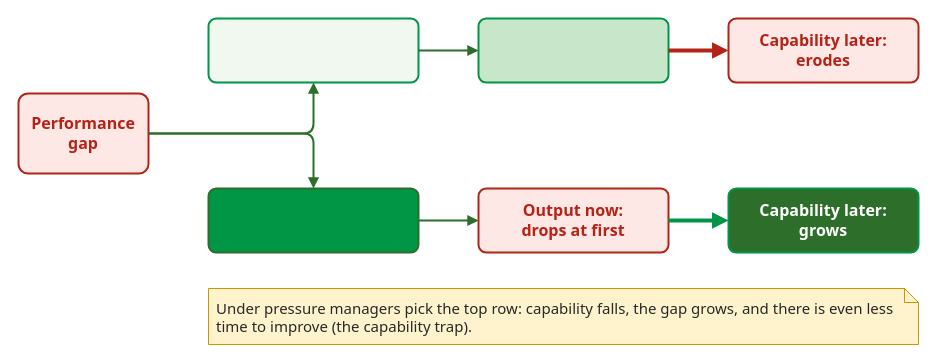
The diagram is 936 pixels wide and 362 high, and some of its shapes have lost their labels. The centre of each missing label's shape, as x and y in pixels:
"Output now: rises at once" belongs at (x=573, y=50).
"Work harder (overtime, shortcuts)" belongs at (x=313, y=50).
"Work smarter (time for improvement)" belongs at (x=313, y=220).
